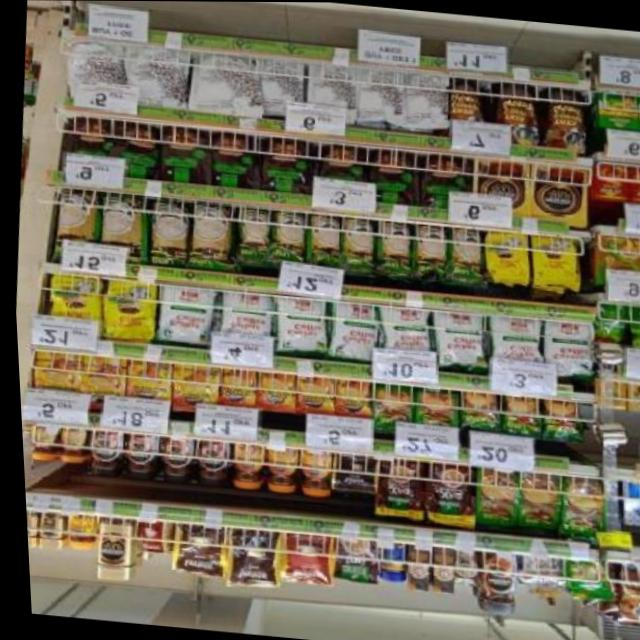Coffee: (28, 349, 82, 406), (469, 550, 514, 615), (87, 514, 129, 580), (164, 361, 216, 414), (77, 353, 124, 410), (122, 360, 168, 404), (117, 432, 157, 481), (153, 436, 193, 484), (81, 430, 121, 478), (188, 438, 226, 487), (292, 450, 329, 499), (259, 446, 296, 494), (224, 443, 261, 490), (251, 370, 293, 411), (213, 367, 255, 407), (292, 375, 331, 414), (330, 378, 366, 416), (22, 425, 54, 461), (59, 513, 90, 549), (52, 427, 82, 463), (30, 512, 58, 550), (21, 509, 30, 548)
